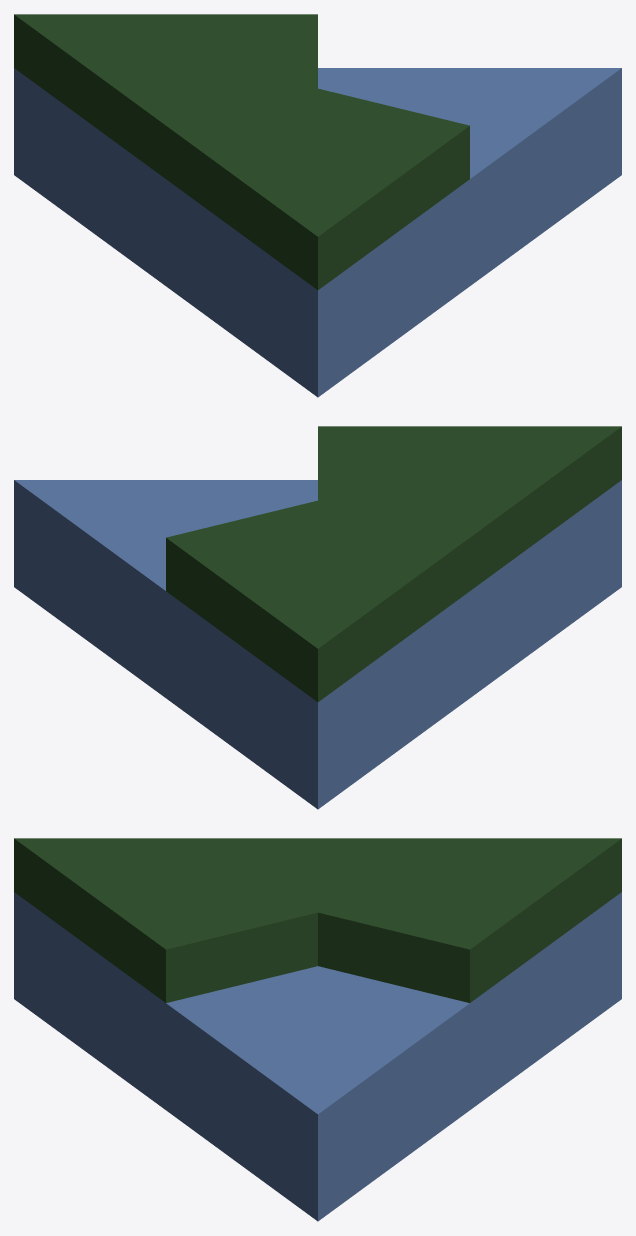
The model's file is tri_17.glb.
The picture shows the model from 3 angles, top to bottom: view 1: azimuth 30°, elevation 25°; view 2: azimuth 150°, elevation 25°; view 3: azimuth 270°, elevation 25°; orthographic projection.
Parts seen in each view (by area): view 1: tri_17; view 2: tri_17; view 3: tri_17.
Boxes of the visible parts, <box> form: tri_17: <box>14,14,621,397</box>; tri_17: <box>14,426,621,809</box>; tri_17: <box>14,838,621,1221</box>.
Bounding box in the file's own units: 0.7423 × 0.25 × 0.8571.
